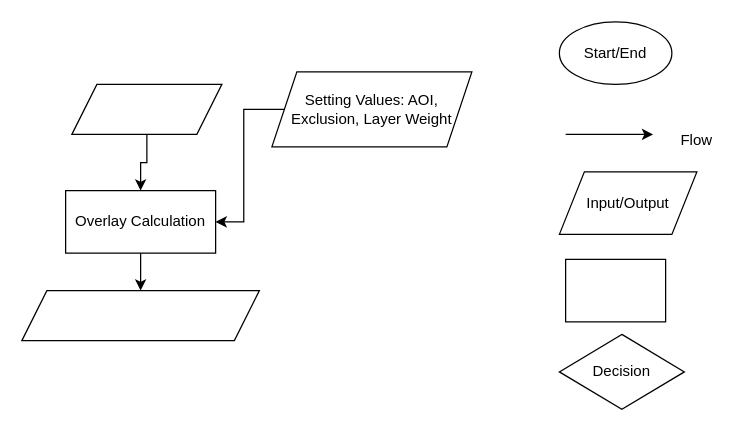
This 756x431 diagram has some shape labels left out. The centre of each missing label's shape, as x and y in pixels:
"MCA Result raster file (tiff)" belongs at [140,315].
"Process" belongs at [615,290].
"Scored Layers" belongs at [146,108].
